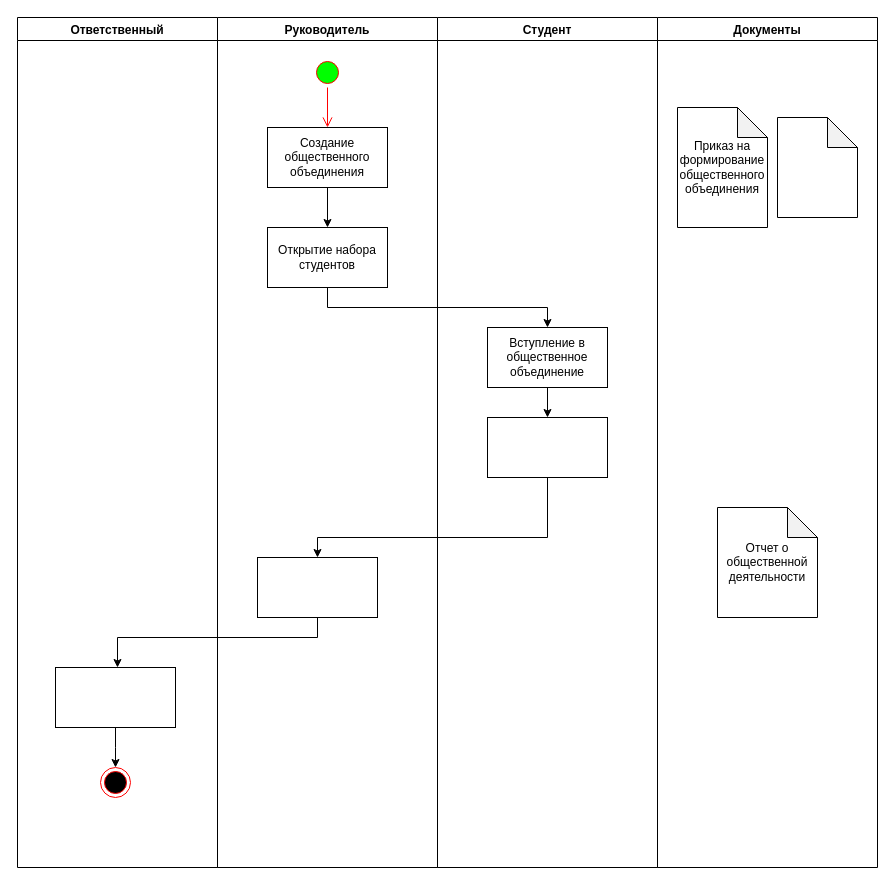
This 895x885 diagram has some shape labels left out. Each missing label, with the box of its shape:
Подготовка списка активистов: (54, 666, 176, 728)
Положение: (776, 116, 858, 218)
Участие в мероприятии: (486, 416, 608, 478)
Формирование отчета деятельности за год: (256, 556, 378, 618)
